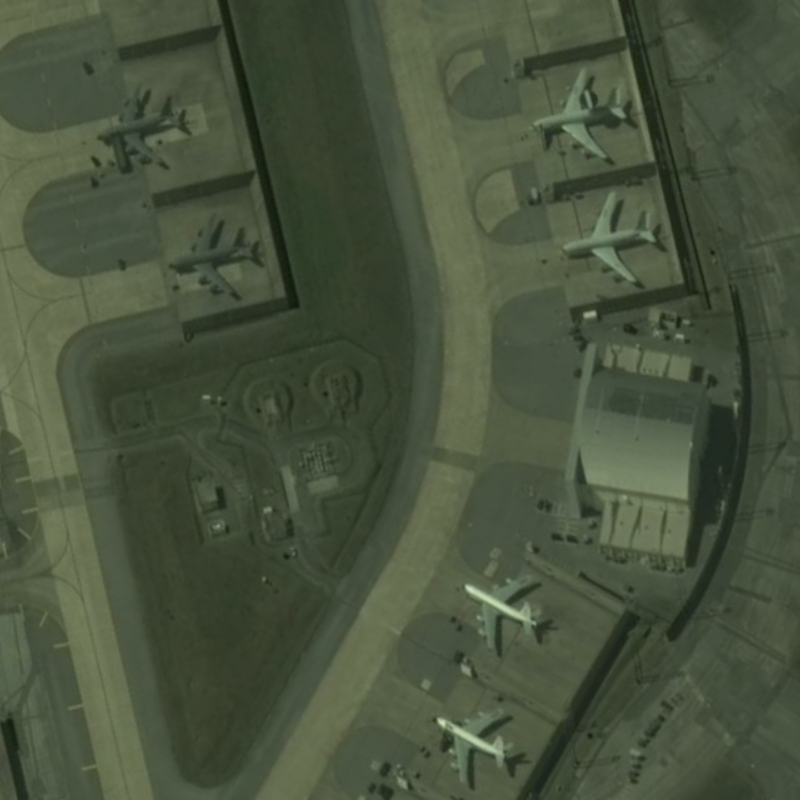A11: (554, 188, 665, 295), (424, 701, 526, 790), (454, 572, 552, 654)
A14: (87, 73, 198, 178), (162, 207, 268, 309)
A7: (531, 61, 639, 171)
